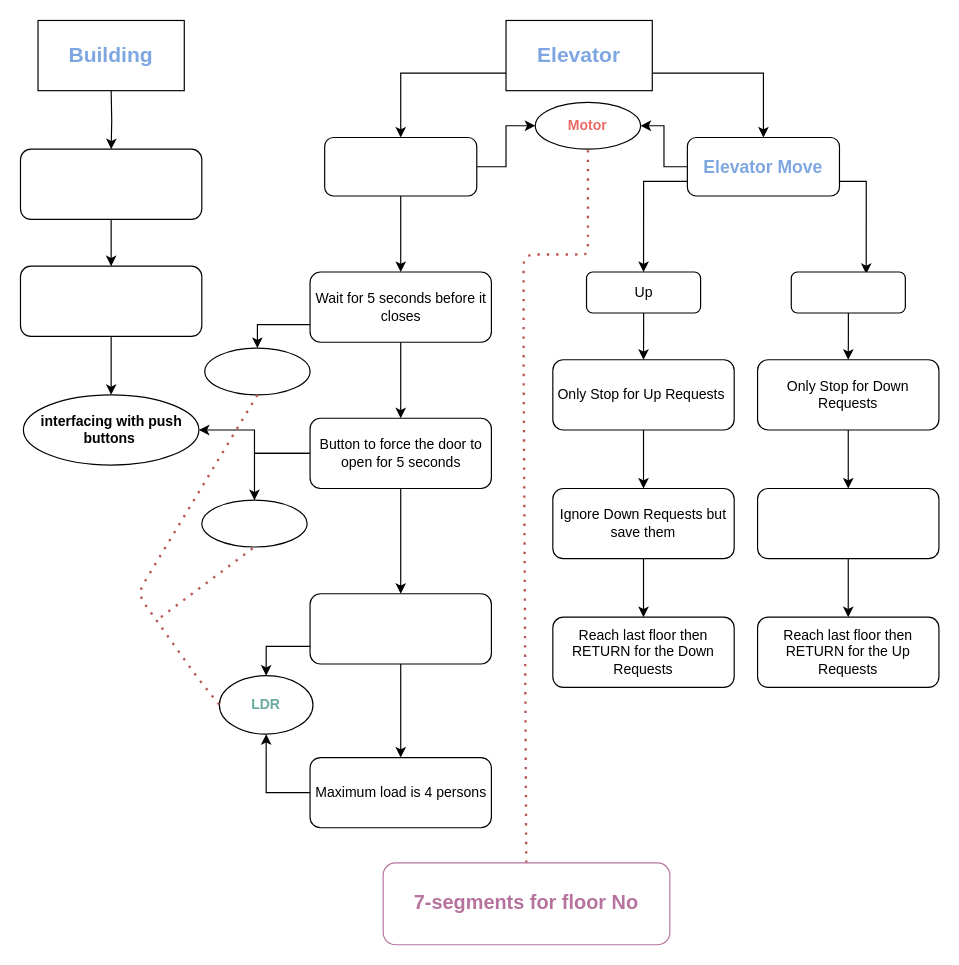
Image size: 959x965. Some labels were removed from this diagram. The shapes that lost their labels are listed below. From the top down, each one's centre as x and y in pixels, then its label:
[110,183]: 4 floors + ground
[400,166]: Elevator Door
[110,300]: Two buttons for each floor except for the last and the ground
[847,292]: Down
[257,371]: Timer
[254,523]: Interrupts
[847,523]: Ignore Up Requests but save them
[400,628]: doesn't close if someone is blocking the door
